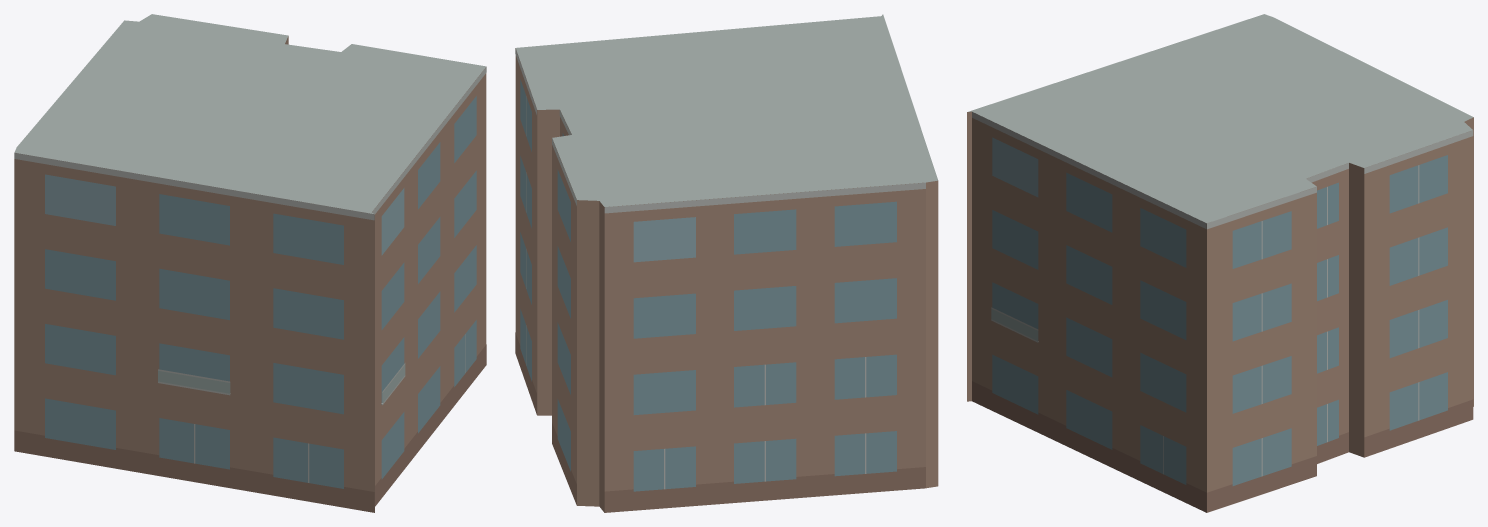
The model's file is survey-upis-32982085.glb.
3 renders of one model, left to right at view 1: azimuth 30°, elevation 25°; view 2: azimuth 150°, elevation 25°; view 3: azimuth 270°, elevation 25°, orthographic. The views are drawn at different scales.
Visible parts, largest first — view 1: survey-upis-32982085.tmp; view 2: survey-upis-32982085.tmp; view 3: survey-upis-32982085.tmp.
Boxes of the visible parts, x1,y1,x2,y2 form: survey-upis-32982085.tmp: (14,14,486,512); survey-upis-32982085.tmp: (515,14,938,512); survey-upis-32982085.tmp: (967,14,1473,512).
Bounding box in the file's own units: 18.15 × 11.7 × 18.57.
